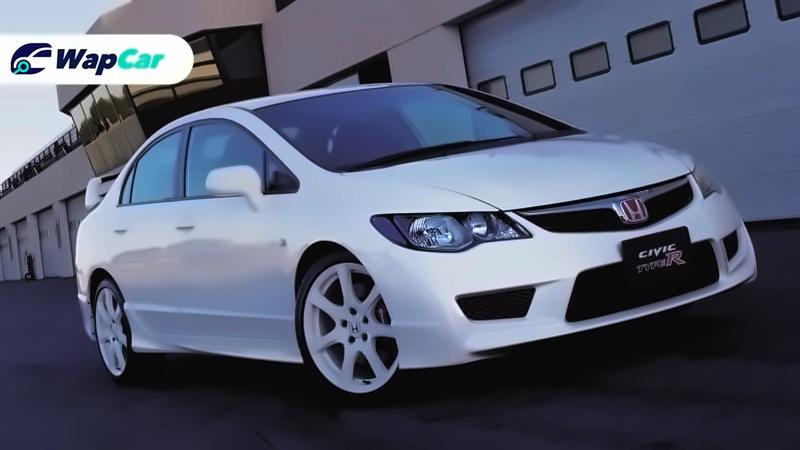Car hood: (337, 128, 699, 213)
Driver-s door - -F-R-: (172, 105, 297, 376)
Fender - -F-R-: (289, 170, 434, 346)
Fender - -R-R-: (83, 170, 132, 337)
Front bumper: (384, 183, 774, 373)
Headlight - -L-: (687, 159, 726, 200)
Headlight - -R-: (369, 206, 534, 255)
Passenger-s door - -R-R-: (104, 104, 190, 368)
Rear bumper: (72, 274, 97, 347)
Side bumper - -R-: (121, 326, 307, 368)
Side mirror - -R-: (206, 164, 261, 217)
